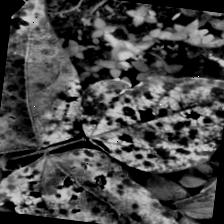ALS: (74, 52, 224, 177), (0, 135, 181, 224), (0, 0, 97, 158)
